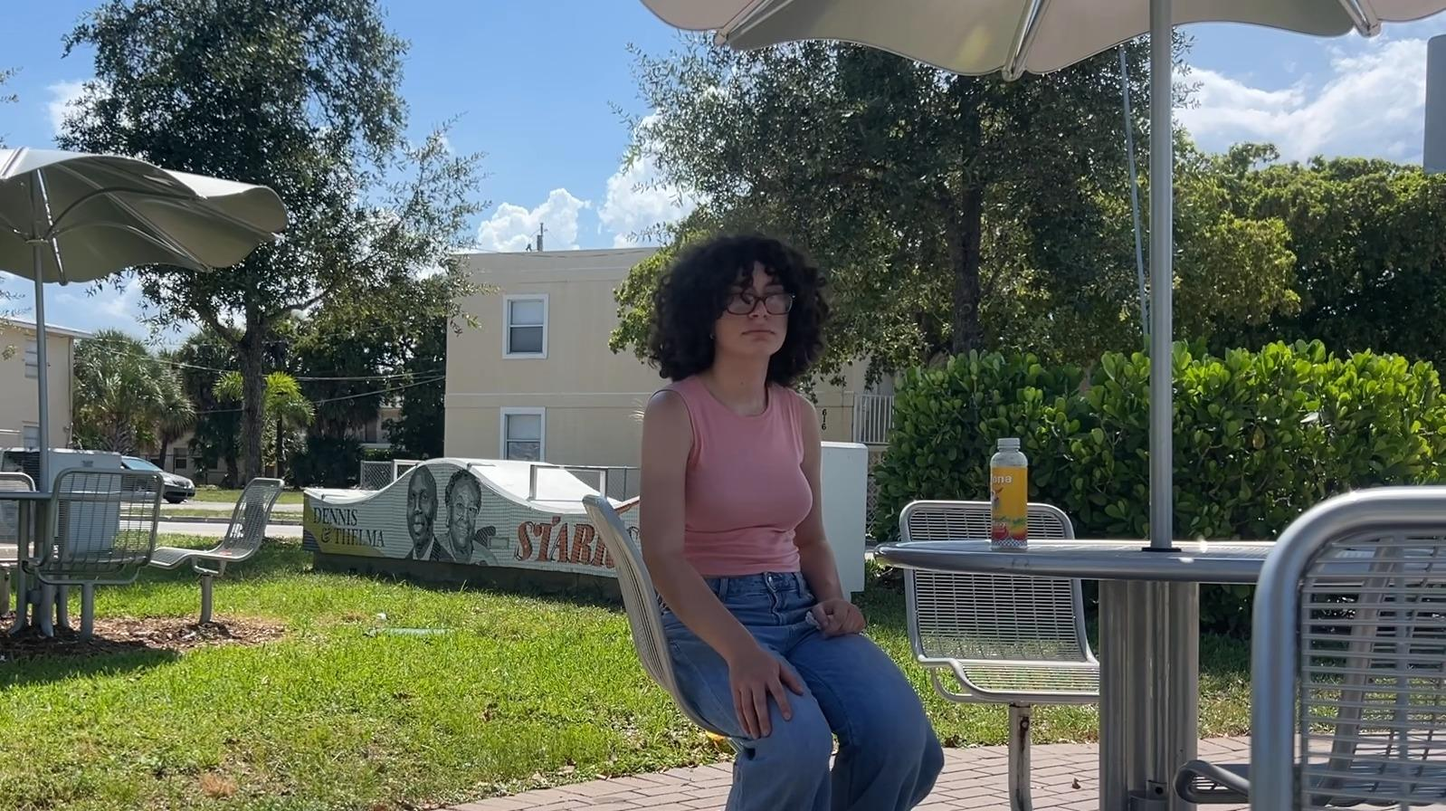Trash: (961, 417, 1053, 565)
